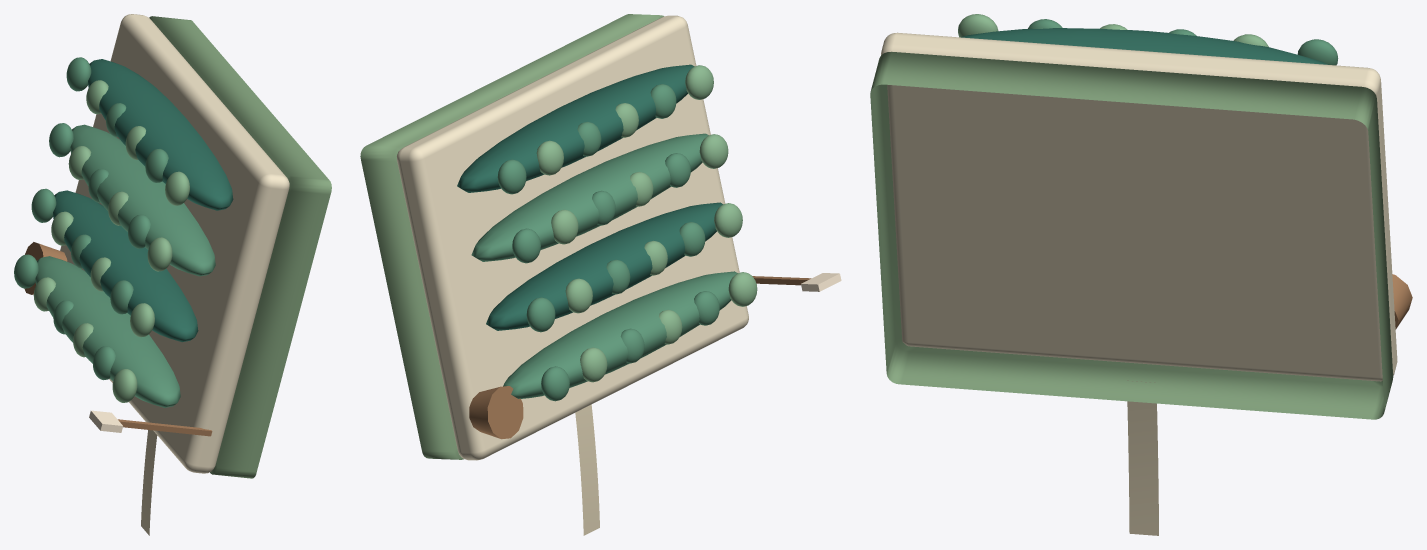
The model's file is tea.glb.
The picture shows the model from 3 angles, left to right: view 1: azimuth 30°, elevation 25°; view 2: azimuth 150°, elevation 25°; view 3: azimuth 270°, elevation 25°; orthographic projection. The views are drawn at different scales.
Parts seen in each view (by area): view 1: tea (×8); view 2: tea (×7); view 3: tea (×7).
Part boxes in pixels (x1,y1,x2,y2): tea (×8): [14, 14, 331, 535]; tea (×7): [360, 14, 811, 535]; tea (×7): [870, 14, 1412, 535].
Size of the model in its own units: 0.3389 by 0.4918 by 0.472.
